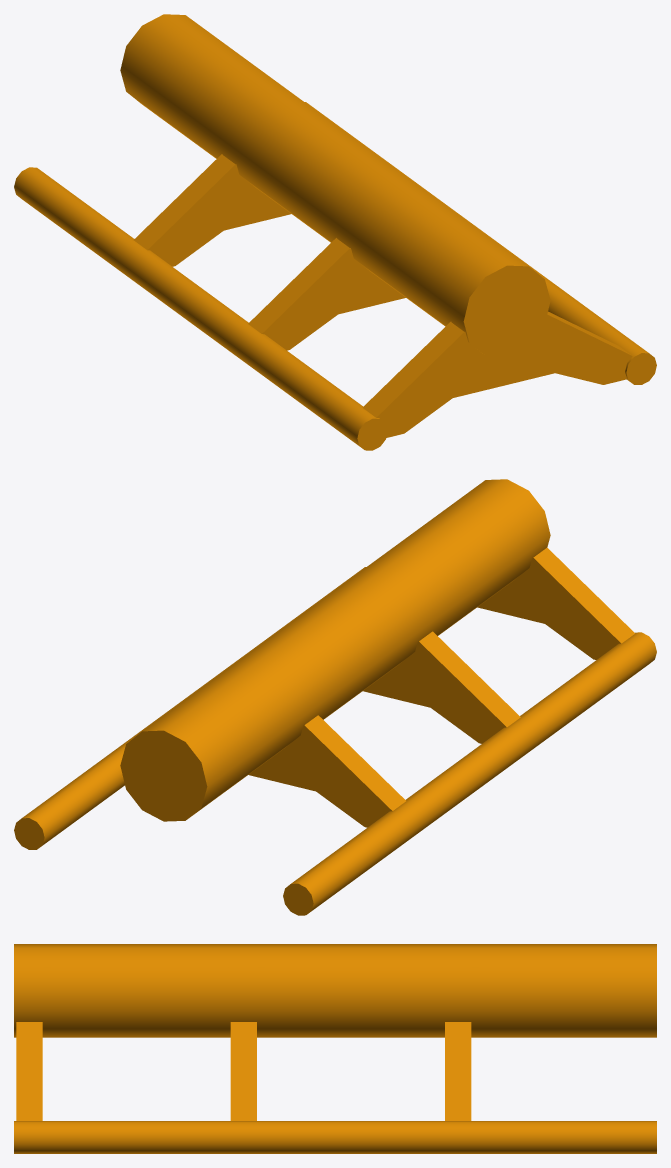
File: track_suspended_ref.fbx
3 renders of one model, top to bottom at view 1: azimuth 30°, elevation 25°; view 2: azimuth 150°, elevation 25°; view 3: azimuth 270°, elevation 25°, orthographic. The views are drawn at different scales.
Visible parts, largest first — view 1: track_suspended_ref; view 2: track_suspended_ref; view 3: track_suspended_ref.
Part boxes in pixels (left/top/right/bottom): track_suspended_ref: left=14, top=14, right=656, bottom=450; track_suspended_ref: left=14, top=479, right=656, bottom=915; track_suspended_ref: left=14, top=944, right=656, bottom=1153.
Size of the model in its own units: 0.5038 by 0.2448 by 1.
